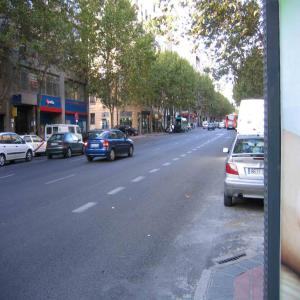Vehicle-registration-plate: (249, 169, 265, 177), (51, 143, 59, 147)
